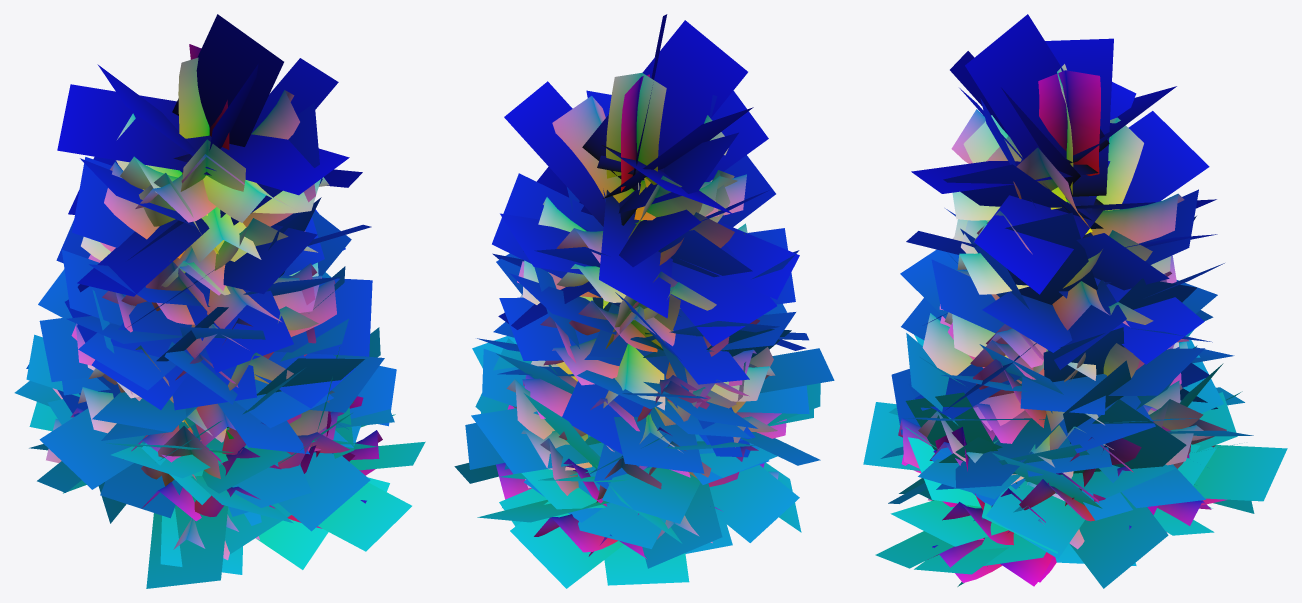
File: spruce_03_3.fbx
3 renders of one model, left to right at view 1: azimuth 30°, elevation 25°; view 2: azimuth 150°, elevation 25°; view 3: azimuth 270°, elevation 25°, orthographic. The views are drawn at different scales.
Visible parts, largest first — view 1: spruce_03_3_leaves_shadow, spruce_03_3_leaves_lod_0; view 2: spruce_03_3_leaves_shadow, spruce_03_3_leaves_lod_0; view 3: spruce_03_3_leaves_shadow, spruce_03_3_leaves_lod_0.
Part boxes in pixels (x1,y1,x2,y2): spruce_03_3_leaves_shadow: (14,14,425,588); spruce_03_3_leaves_lod_0: (46,44,382,560); spruce_03_3_leaves_shadow: (454,14,834,588); spruce_03_3_leaves_lod_0: (496,73,786,558); spruce_03_3_leaves_shadow: (863,14,1287,588); spruce_03_3_leaves_lod_0: (898,64,1226,586).
Size of what is drawn, in the model's own units: 7.02 by 10.85 by 7.61.
